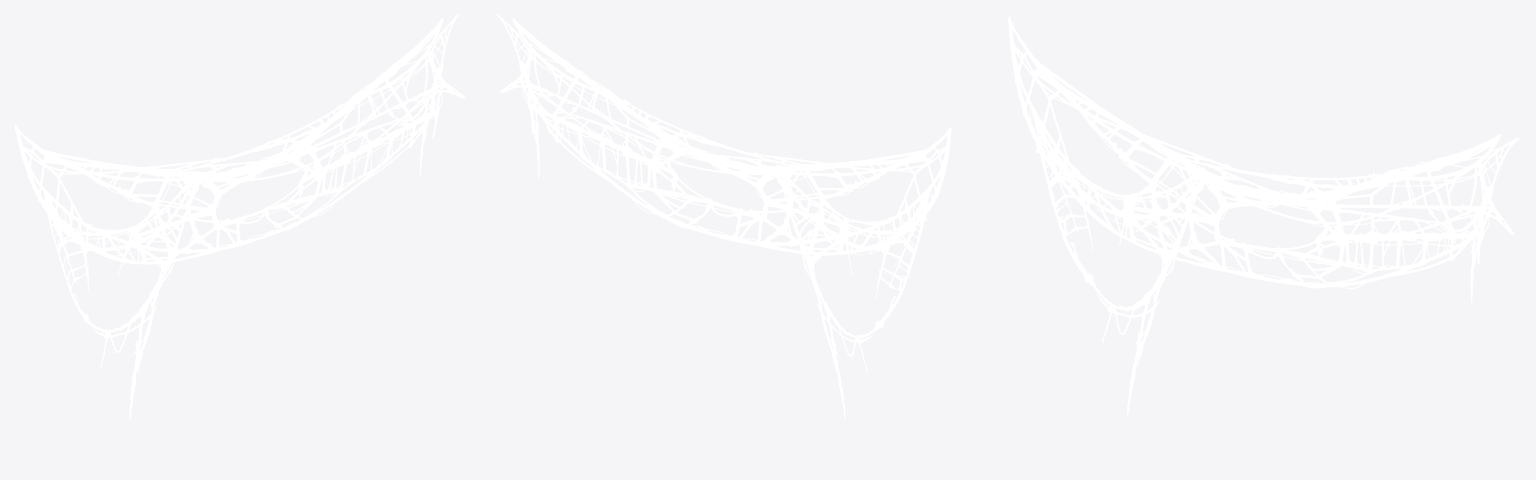
The picture shows the model from 3 angles, left to right: view 1: azimuth 30°, elevation 25°; view 2: azimuth 150°, elevation 25°; view 3: azimuth 330°, elevation 25°; orthographic projection. The views are drawn at different scales.
Visible parts, largest first — view 1: SM_Cob_Web_06_LOD0; view 2: SM_Cob_Web_06_LOD0; view 3: SM_Cob_Web_06_LOD0.
Boxes of the visible parts, x1,y1,x2,y2 form: SM_Cob_Web_06_LOD0: (14, 14, 465, 418); SM_Cob_Web_06_LOD0: (495, 14, 951, 418); SM_Cob_Web_06_LOD0: (1008, 16, 1519, 415).
Size of the model in its own units: 4 by 3.11 by 0.2112.
Materials: 1 (1 with a texture image).
